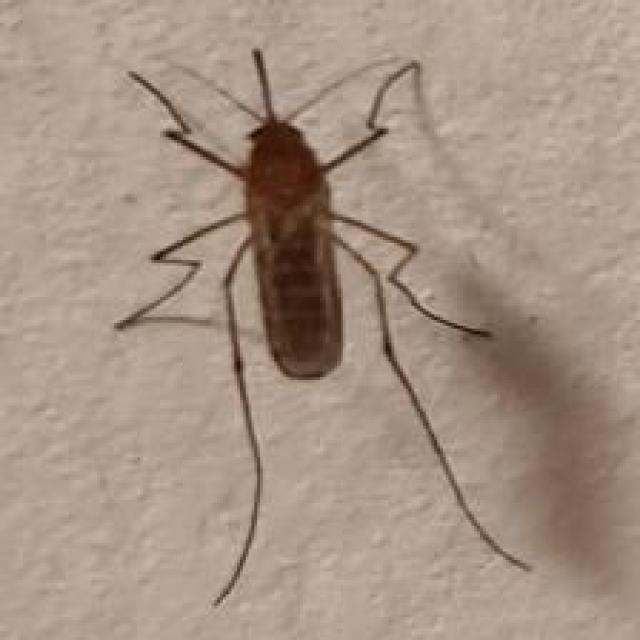Culex: (111, 44, 534, 607)
